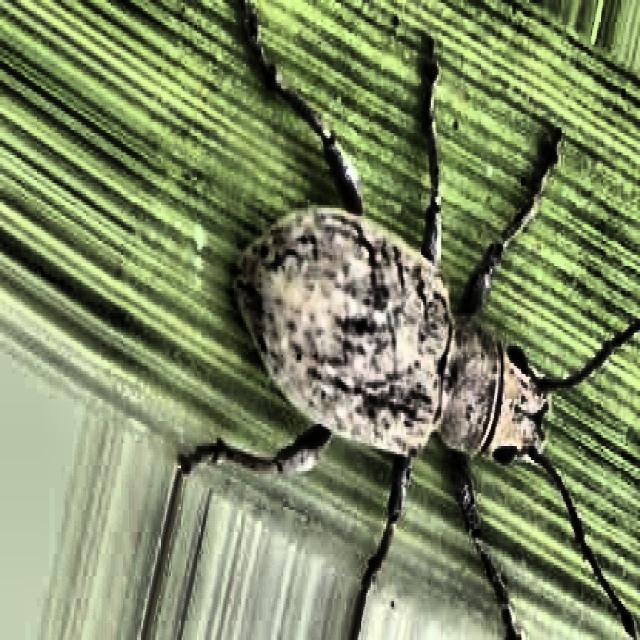Stink bug: (86, 0, 640, 640)
